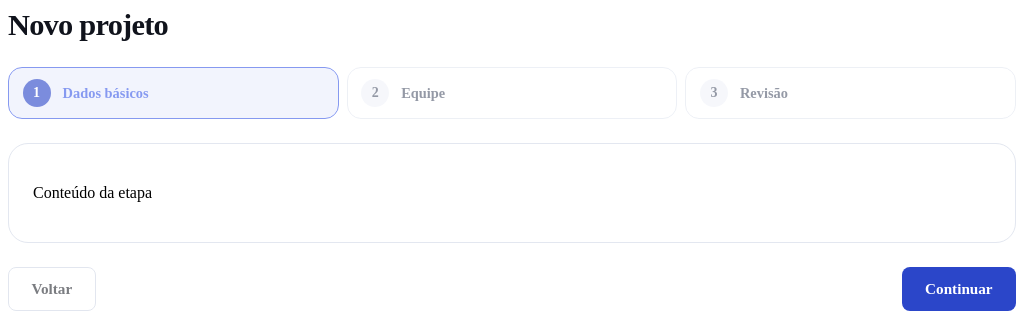
Test case: BdWizardTemplateComponent › desabilita o botão de voltar na primeira etapa
This screenshot has width=1024, height=328.
expect the button with class "bd-wizard__btn" showing "Voltar" is disabled: met, box [8,267,96,311]
Click the button with class "bd-wizard__btn--primary": (959, 289) [902,267,1016,311]
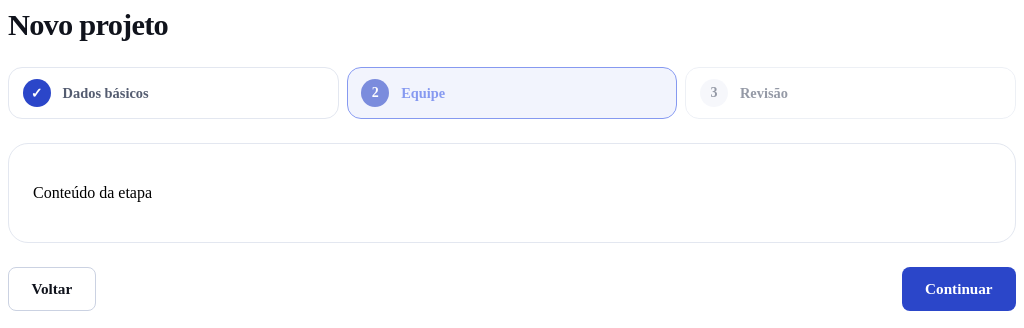
expect the button with class "bd-wizard__btn" showing "Voltar" is enabled: met, box [8,267,96,311]
